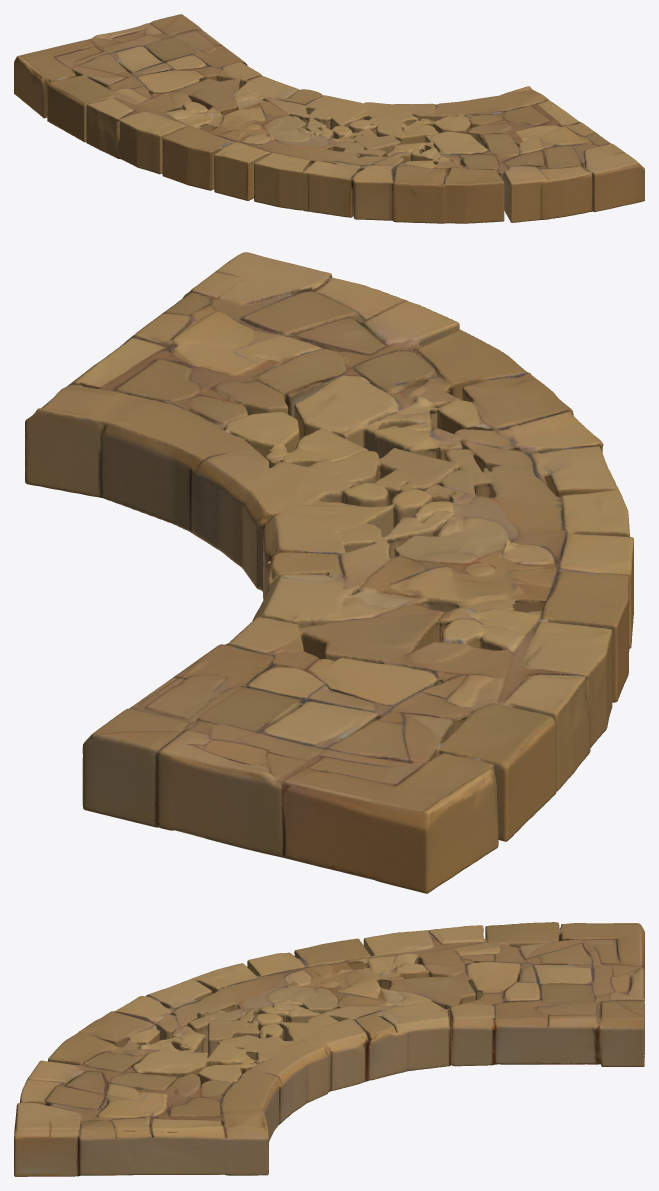
Rendered from stone_path_curved.glb.
3 renders of one model, top to bottom at view 1: azimuth 30°, elevation 25°; view 2: azimuth 150°, elevation 25°; view 3: azimuth 270°, elevation 25°, orthographic. The views are drawn at different scales.
Visible parts, largest first — view 1: tripo_node_3f53ac40-21a7-45cd-a1bf-1f2b462347a2; view 2: tripo_node_3f53ac40-21a7-45cd-a1bf-1f2b462347a2; view 3: tripo_node_3f53ac40-21a7-45cd-a1bf-1f2b462347a2.
Boxes of the visible parts, bbox=[...] form: tripo_node_3f53ac40-21a7-45cd-a1bf-1f2b462347a2: bbox=[14, 14, 644, 223]; tripo_node_3f53ac40-21a7-45cd-a1bf-1f2b462347a2: bbox=[25, 252, 633, 893]; tripo_node_3f53ac40-21a7-45cd-a1bf-1f2b462347a2: bbox=[14, 922, 644, 1176].
Size of the model in its own units: 0.7911 by 0.0885 by 1.
1 material, 1 textured.
